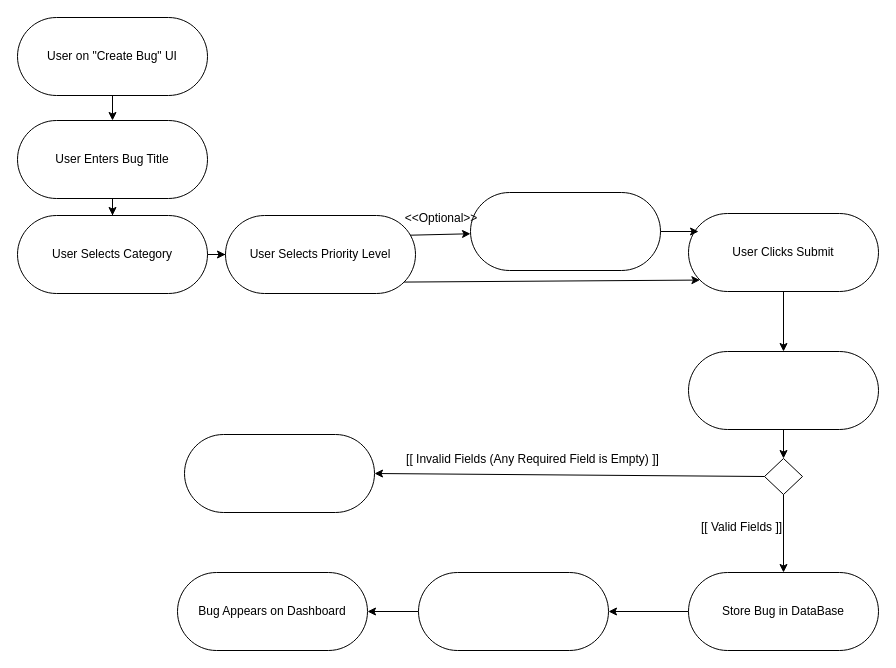
The diagram is 896 pixels wide and 668 high, and some of its shapes have lost their labels. The shapes that lost their labels are listed below. From the top down, each one's box as (x1, y1, x2, y2) in pixels, then its label:
(470, 192, 660, 270): User Adds Notes
(688, 350, 878, 430): Validate Required Fields
(184, 434, 374, 512): Show Error Message
(418, 572, 608, 650): Show Confirmation Message
